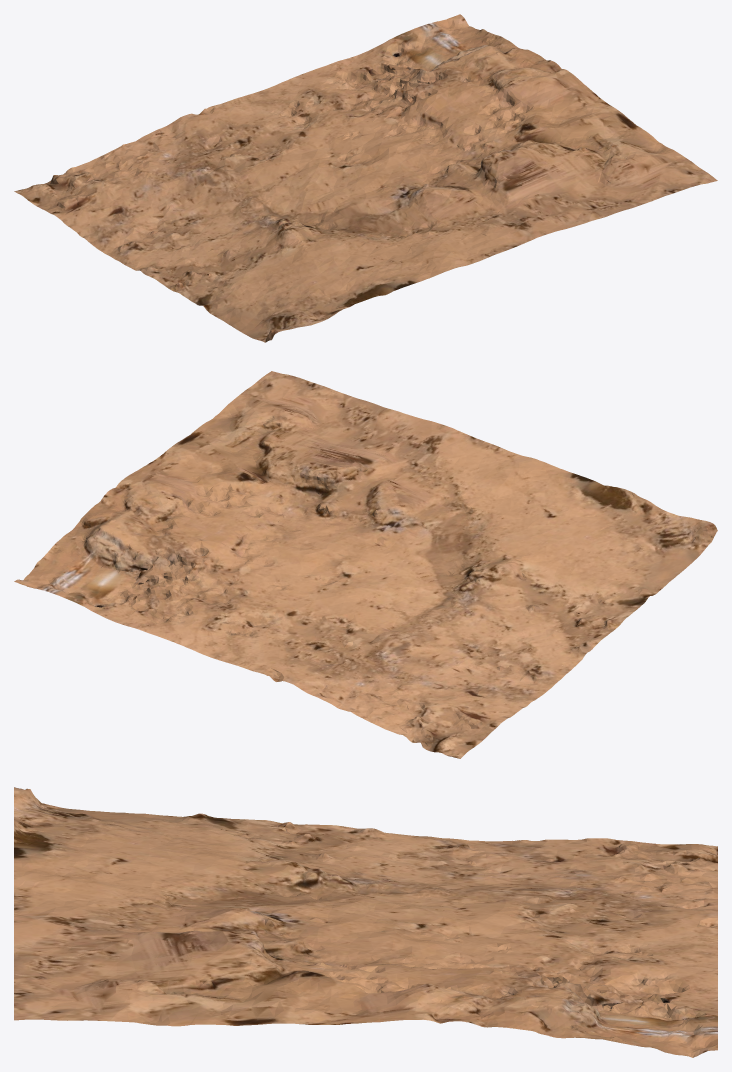
The picture shows the model from 3 angles, top to bottom: view 1: azimuth 30°, elevation 25°; view 2: azimuth 150°, elevation 25°; view 3: azimuth 270°, elevation 25°; orthographic projection. The views are drawn at different scales.
Size of the model in its own units: 4.18 by 0.827 by 4.18.
2 materials, 2 textured.
